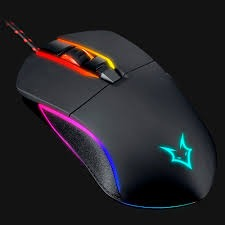mouse: (7, 18, 220, 218)
